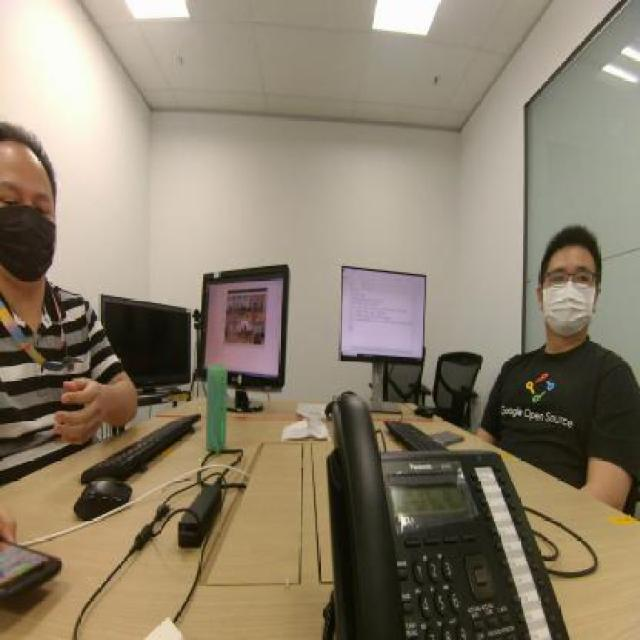Person: (0, 103, 100, 439), (492, 202, 626, 446)
